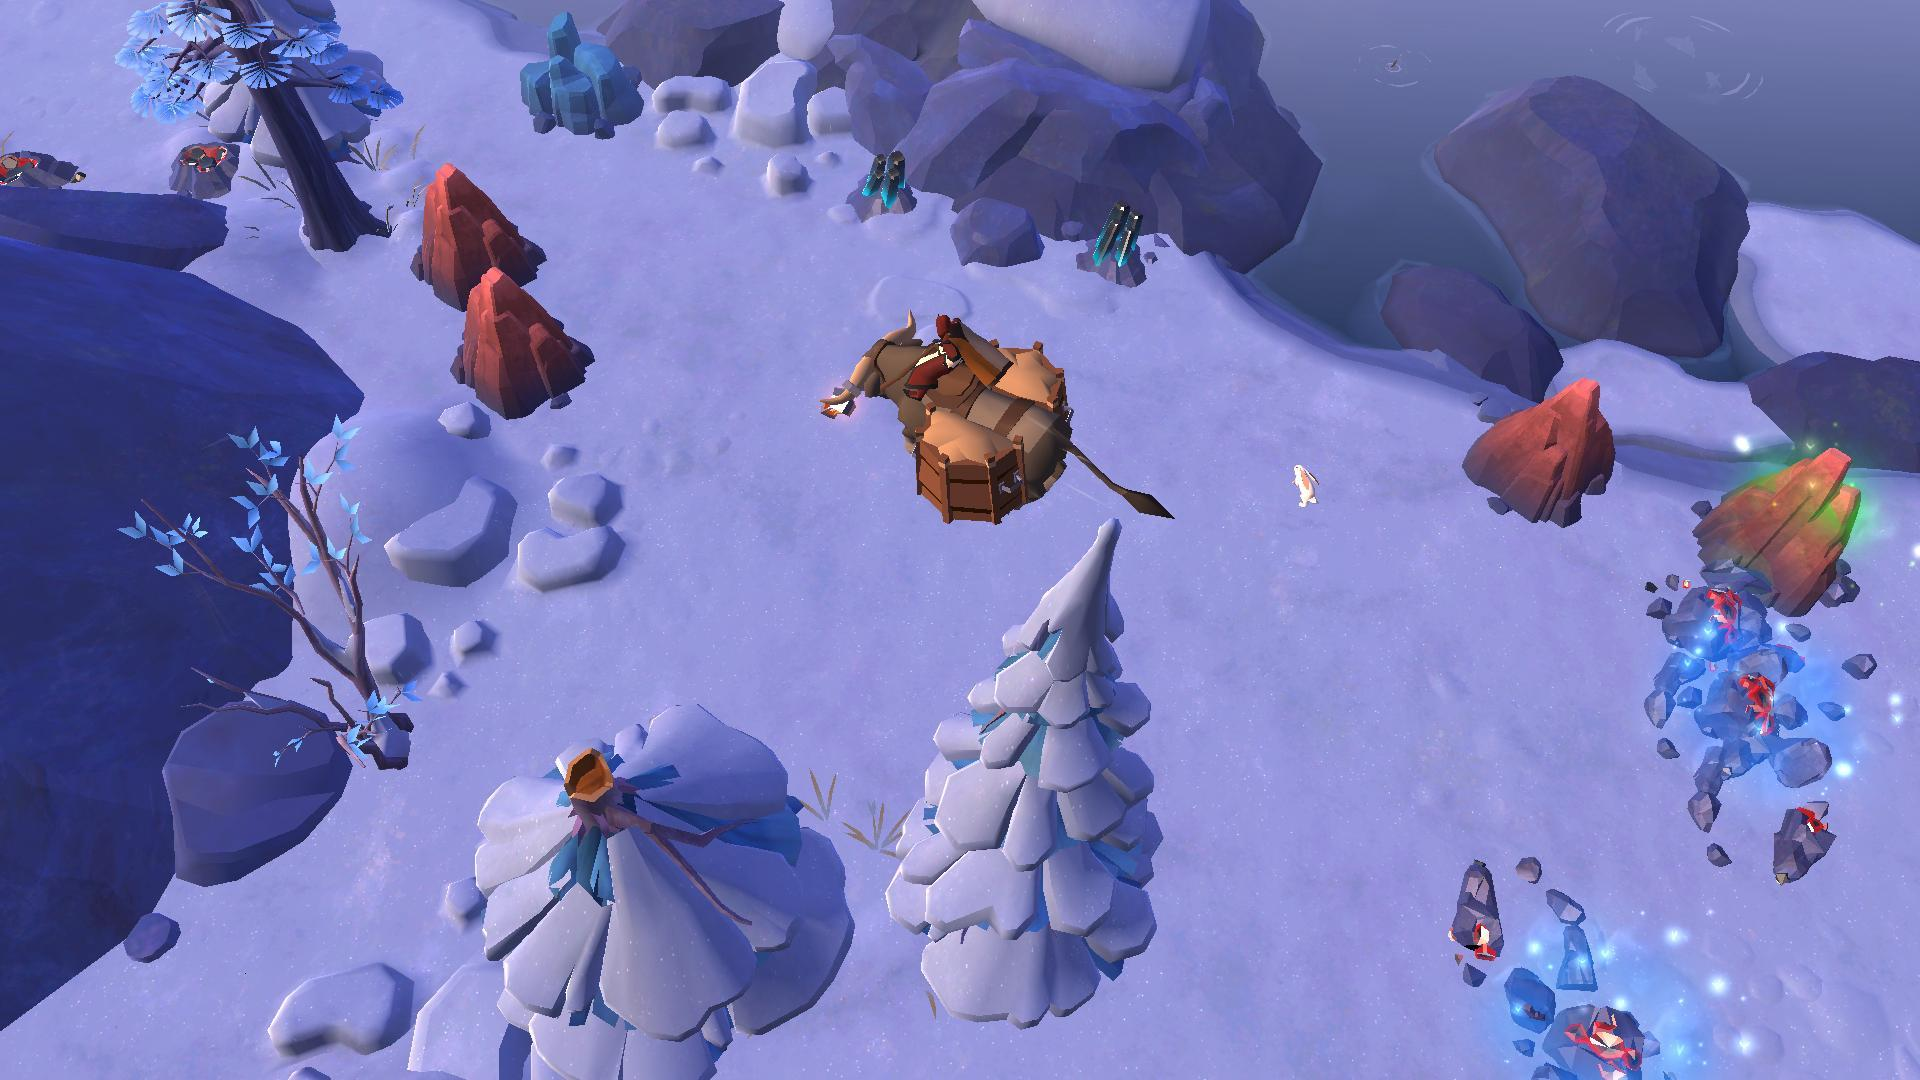ore_t4: (1087, 195, 1145, 278), (858, 150, 914, 202)
rock_t4: (514, 20, 645, 141)
rock_t5: (1693, 434, 1865, 612), (1461, 365, 1617, 524), (450, 268, 593, 429), (409, 157, 543, 299)
